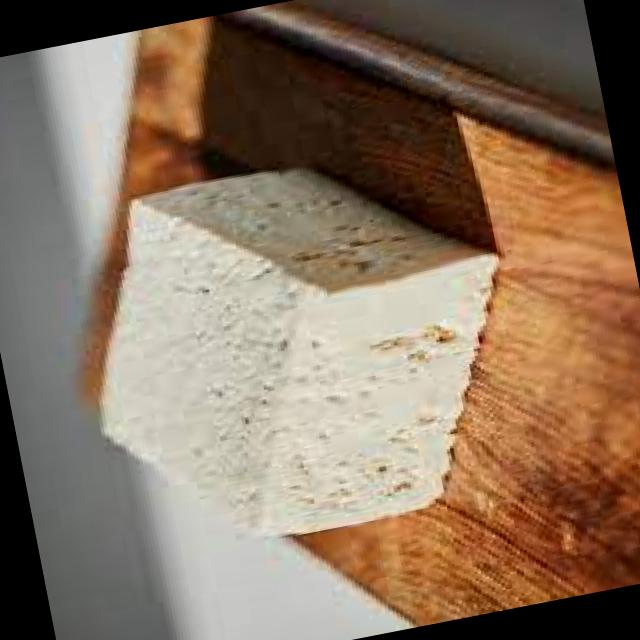tof: (48, 118, 558, 572)
